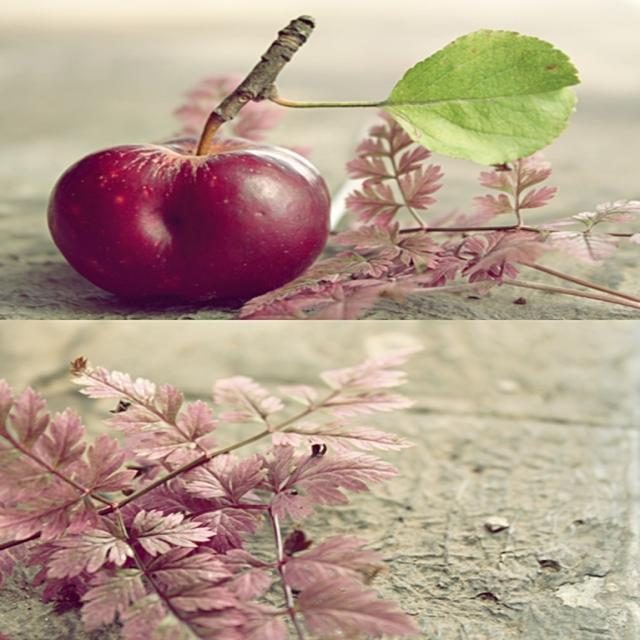Healty Apple: (46, 112, 330, 306)
